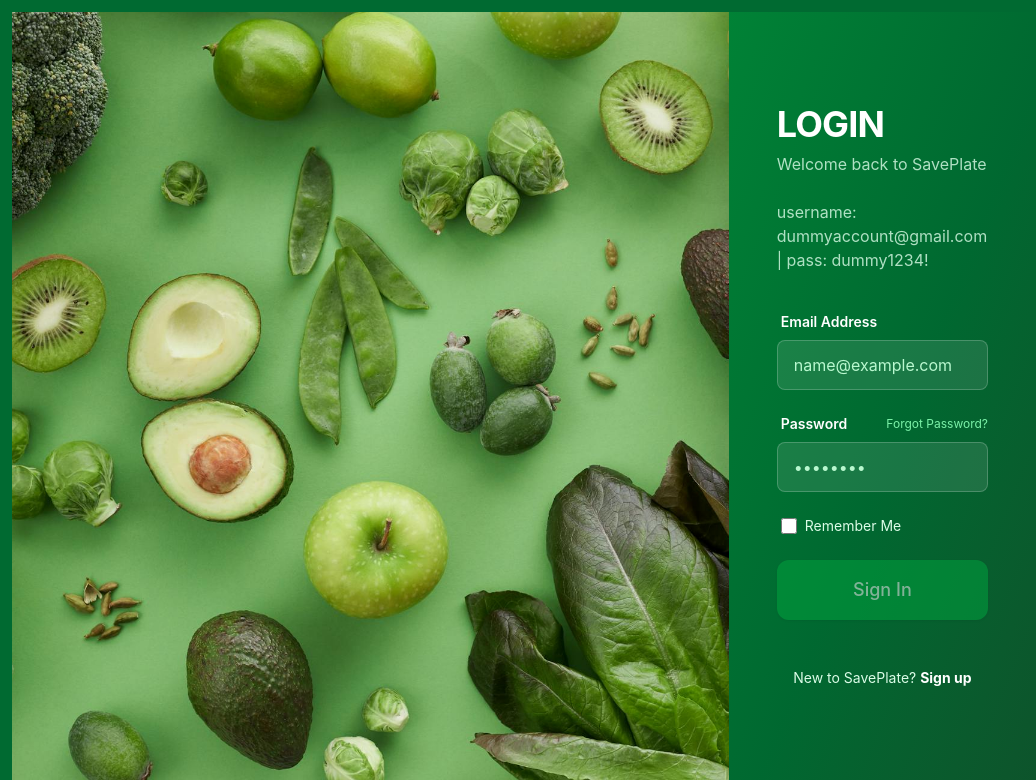
Test: Login Flow › should show error message for non-existent email
In the field with id "email": (883, 365) [777,340,988,390], type "nonexistent@gmail.com"
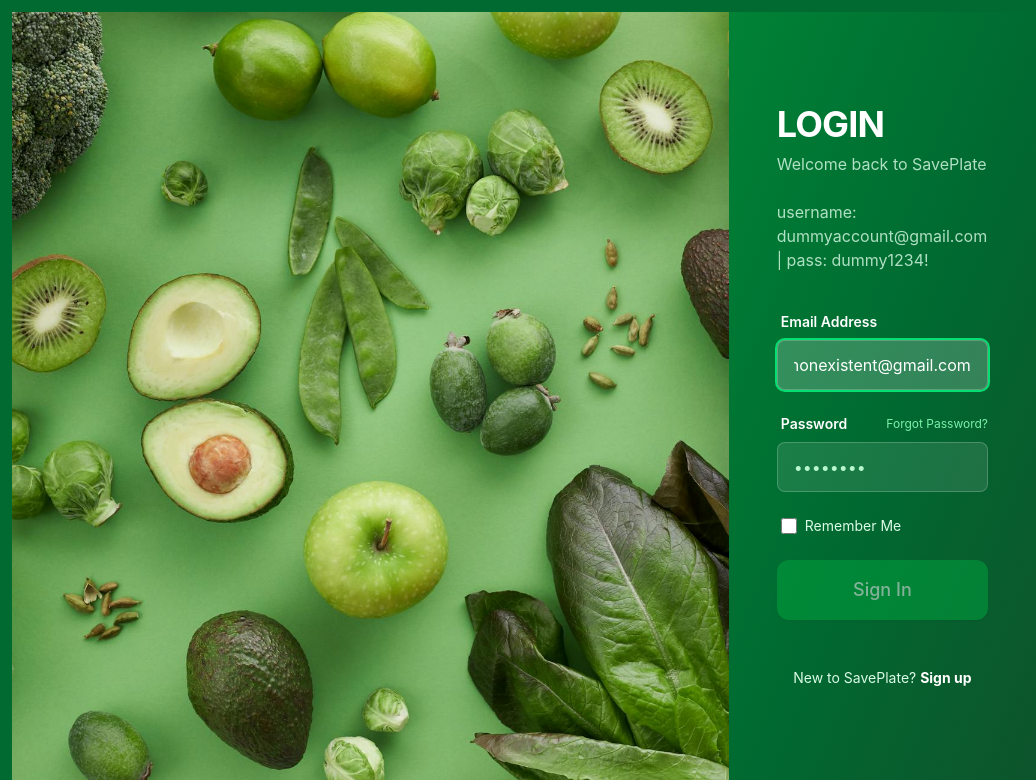
In the password field labelled "Password": (883, 467) [777,442,988,492], type "wrongpass123"
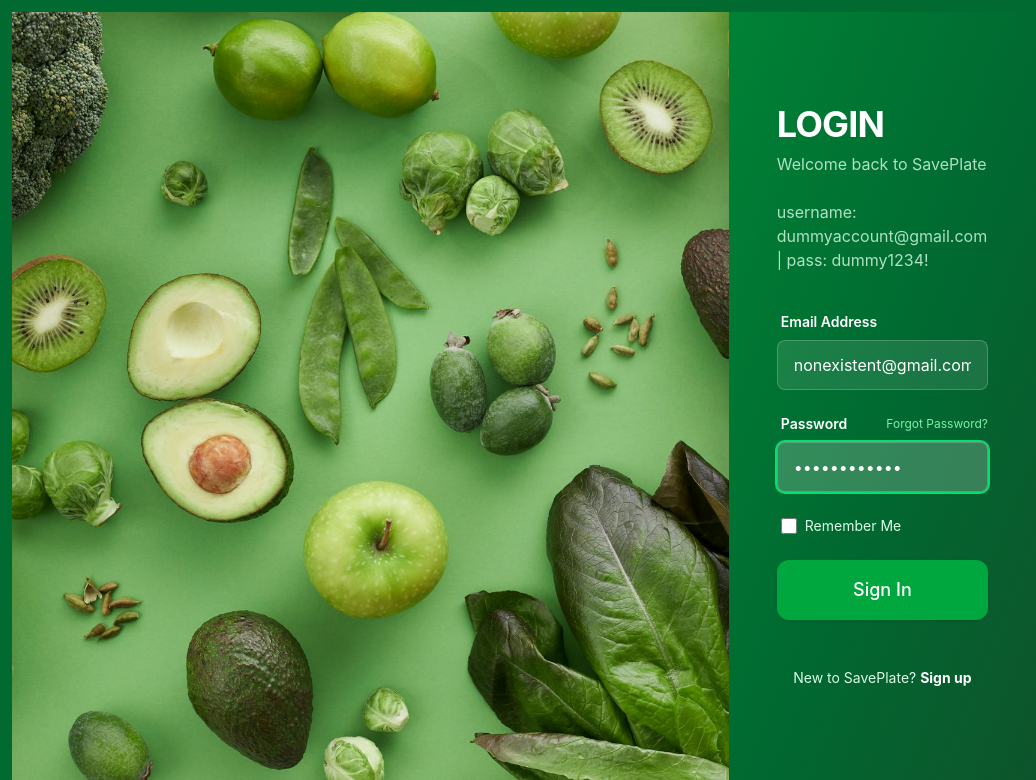
Click the submit button: (883, 590) [777,560,988,620]
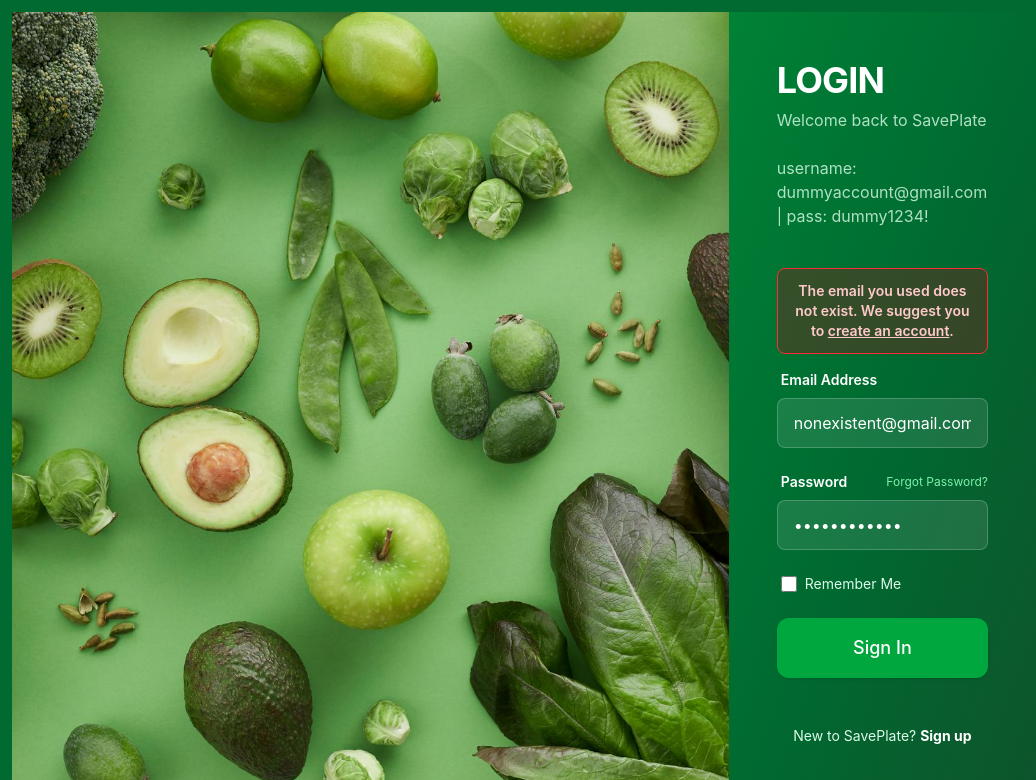
Expected: the text "The email you used does not exist." is shown, [795,282,969,339]
Expected: the link to "/signup" is shown, [828,322,950,339]
